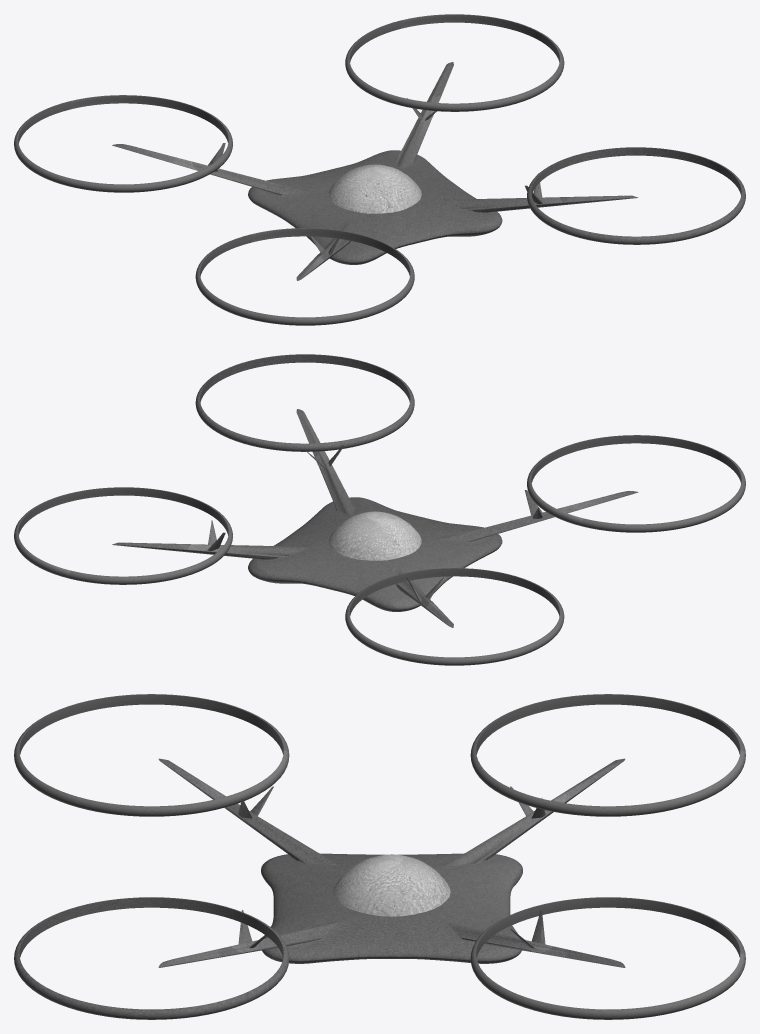
Rendered from droneBody.obj.
3 views of the same model, one above another, from view 1: azimuth 30°, elevation 25°; view 2: azimuth 150°, elevation 25°; view 3: azimuth 270°, elevation 25° (orthographic). The views are drawn at different scales.
Visible parts, largest first — view 1: body, prop_guard1, prop_guard003, prop_guard002, prop_guard004, Sphere001; view 2: body, prop_guard004, prop_guard002, prop_guard1, prop_guard003, Sphere001; view 3: body, prop_guard002, prop_guard004, prop_guard003, prop_guard1, Sphere001.
Boxes of the visible parts, box(x1,y1,x2,y2) form: body: box(112, 62, 638, 280); prop_guard1: box(345, 14, 564, 111); prop_guard003: box(195, 228, 414, 325); prop_guard002: box(527, 147, 745, 244); prop_guard004: box(14, 95, 232, 192); Sphere001: box(328, 164, 421, 213); body: box(112, 409, 638, 627); prop_guard004: box(345, 568, 564, 665); prop_guard002: box(195, 354, 414, 451); prop_guard1: box(14, 487, 232, 584); prop_guard003: box(527, 435, 745, 532); Sphere001: box(328, 511, 421, 560); body: box(158, 758, 625, 967); prop_guard002: box(14, 897, 289, 1019); prop_guard004: box(470, 694, 745, 816); prop_guard003: box(14, 694, 289, 816); prop_guard1: box(470, 897, 745, 1019); Sphere001: box(333, 854, 450, 916).
Size of the model in its own units: 12.38 by 1.29 by 11.99.
2 materials, 2 textured.
